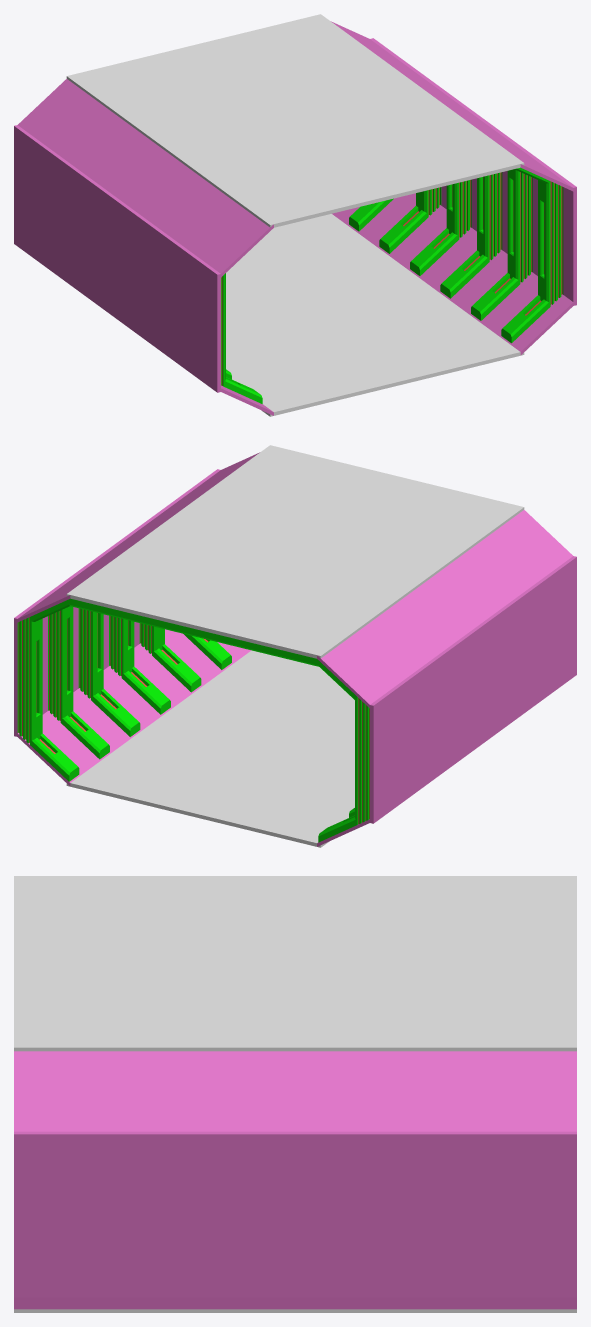
The model's file is TrainingSpace.fbx.
The picture shows the model from 3 angles, top to bottom: view 1: azimuth 30°, elevation 25°; view 2: azimuth 150°, elevation 25°; view 3: azimuth 270°, elevation 25°; orthographic projection. The views are drawn at different scales.
Parts seen in each view (by area): view 1: TrainingSpace; view 2: TrainingSpace; view 3: TrainingSpace.
Part boxes in pixels (bbox=[...]): TrainingSpace: bbox=[14, 14, 576, 416]; TrainingSpace: bbox=[14, 445, 576, 847]; TrainingSpace: bbox=[14, 876, 576, 1312].
Size of the model in its own units: 2040 by 1040 by 2000.
